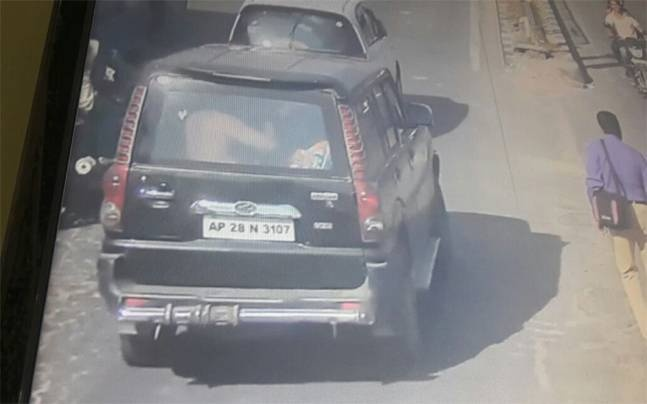number_plate: (203, 217, 297, 240)
